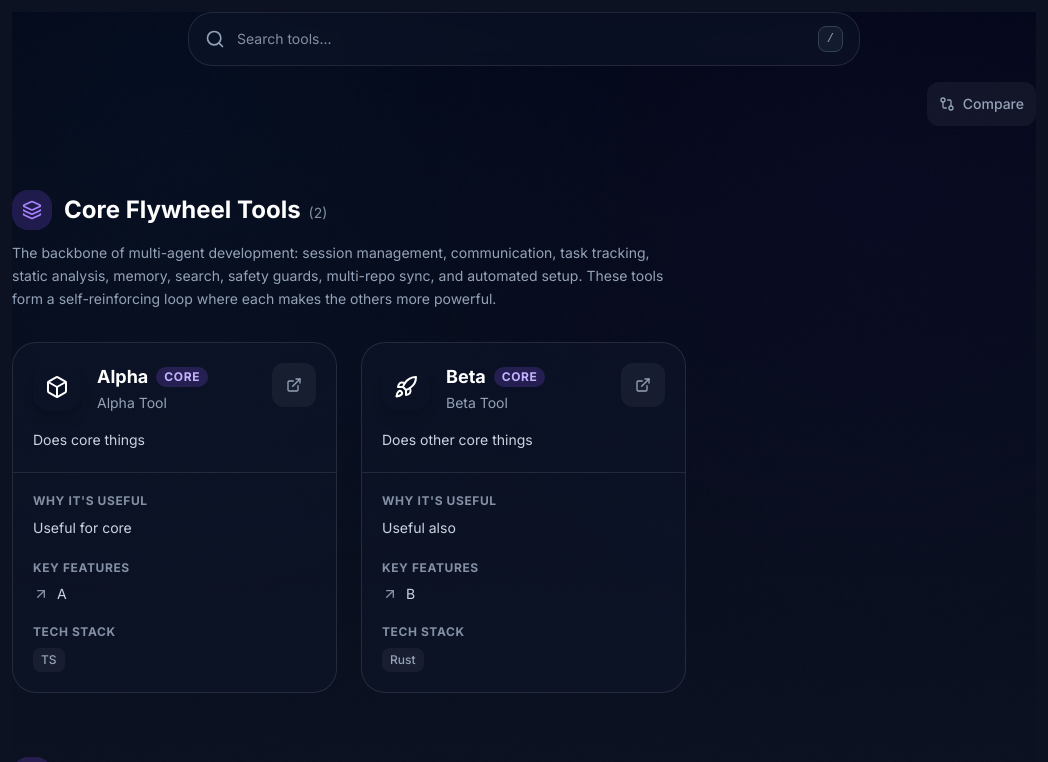
Test: TldrToolGrid › search filtering › searches by tech stack
Step 1. Type "Rust" into the field with placeholder "Search tools..." → (524, 39), box [189,13,859,65]
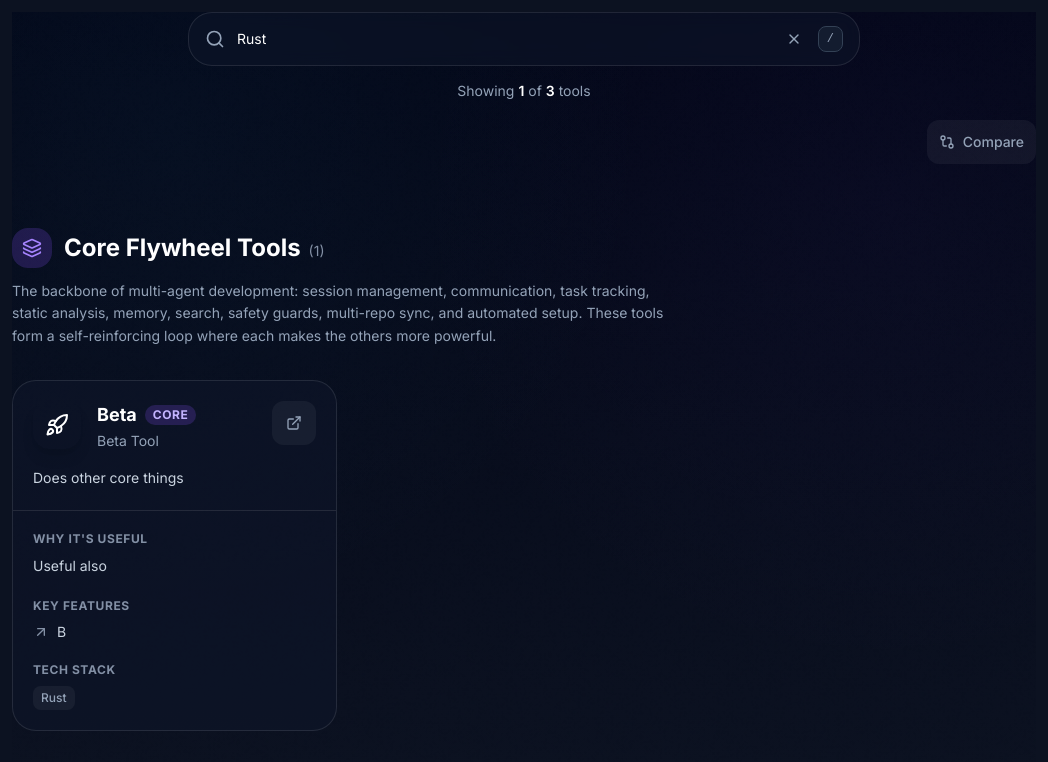
Expected: the text "Beta Tool" is shown, [97,432,159,449]
Result: the text "Alpha Tool" is gone
